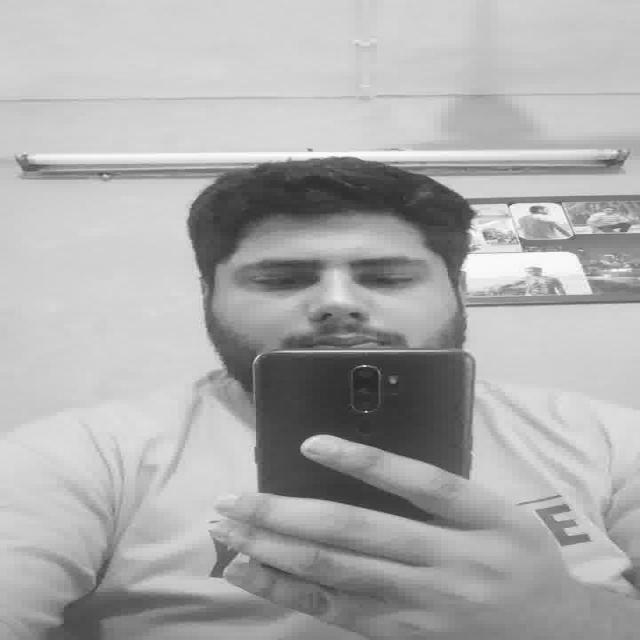fake: (252, 342, 476, 532)
